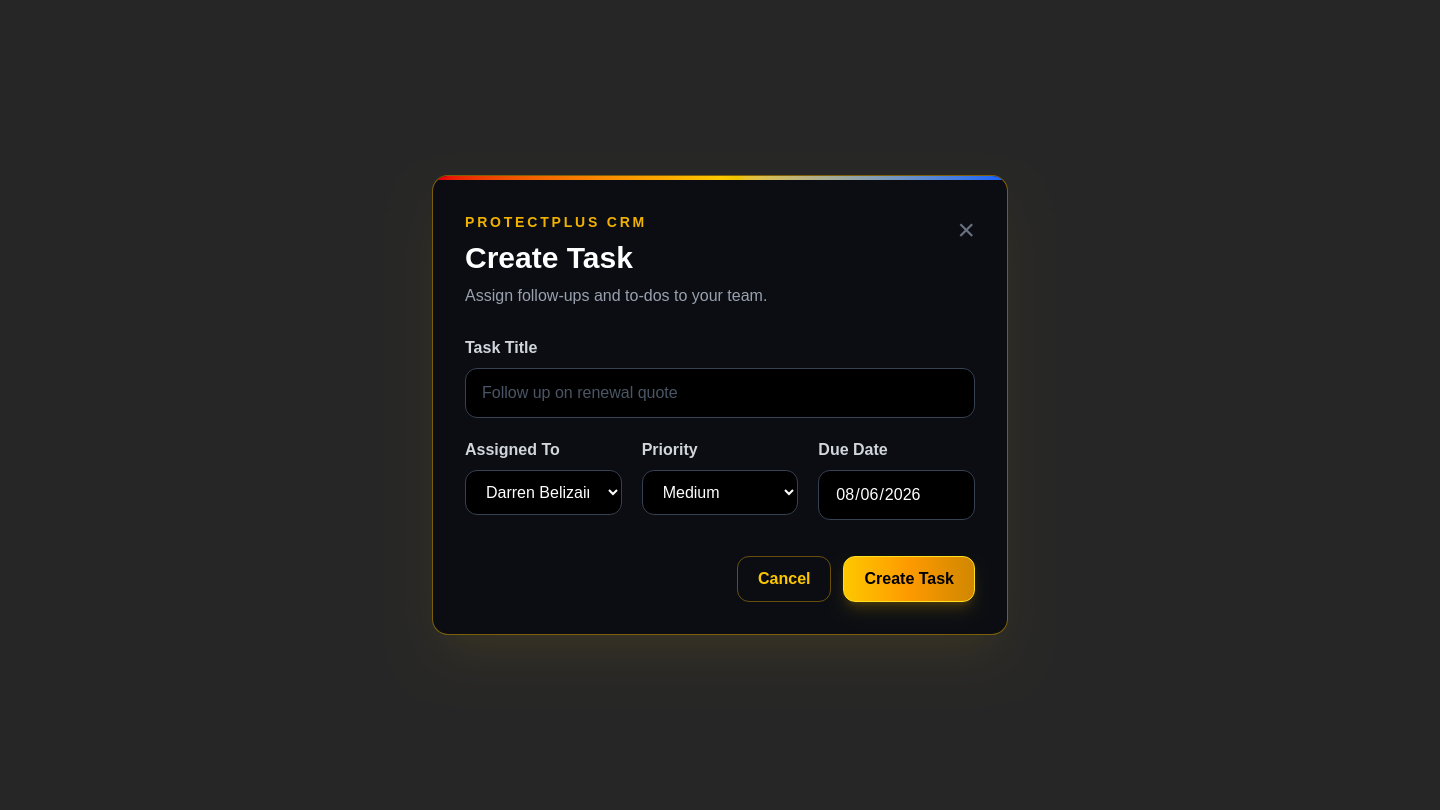
Scenario: TaskModal › shows an inline error and keeps the modal open when the save fails
Type "Call client" into the field with placeholder "Follow up on renewal quote". click: (720, 393)
box: [465,368,975,418]
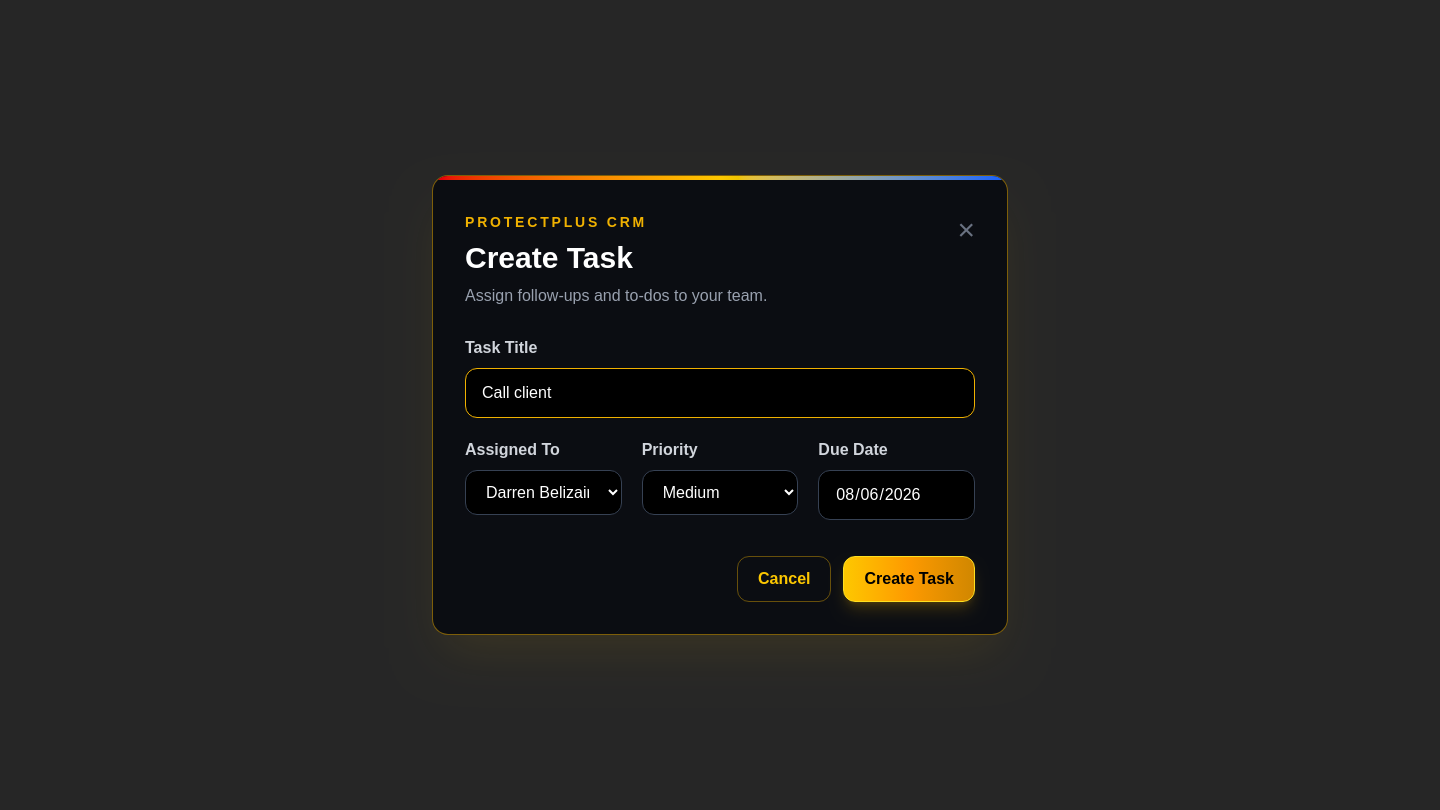
Click the button "Create Task". click: (909, 579)
box: [844,556,975,602]
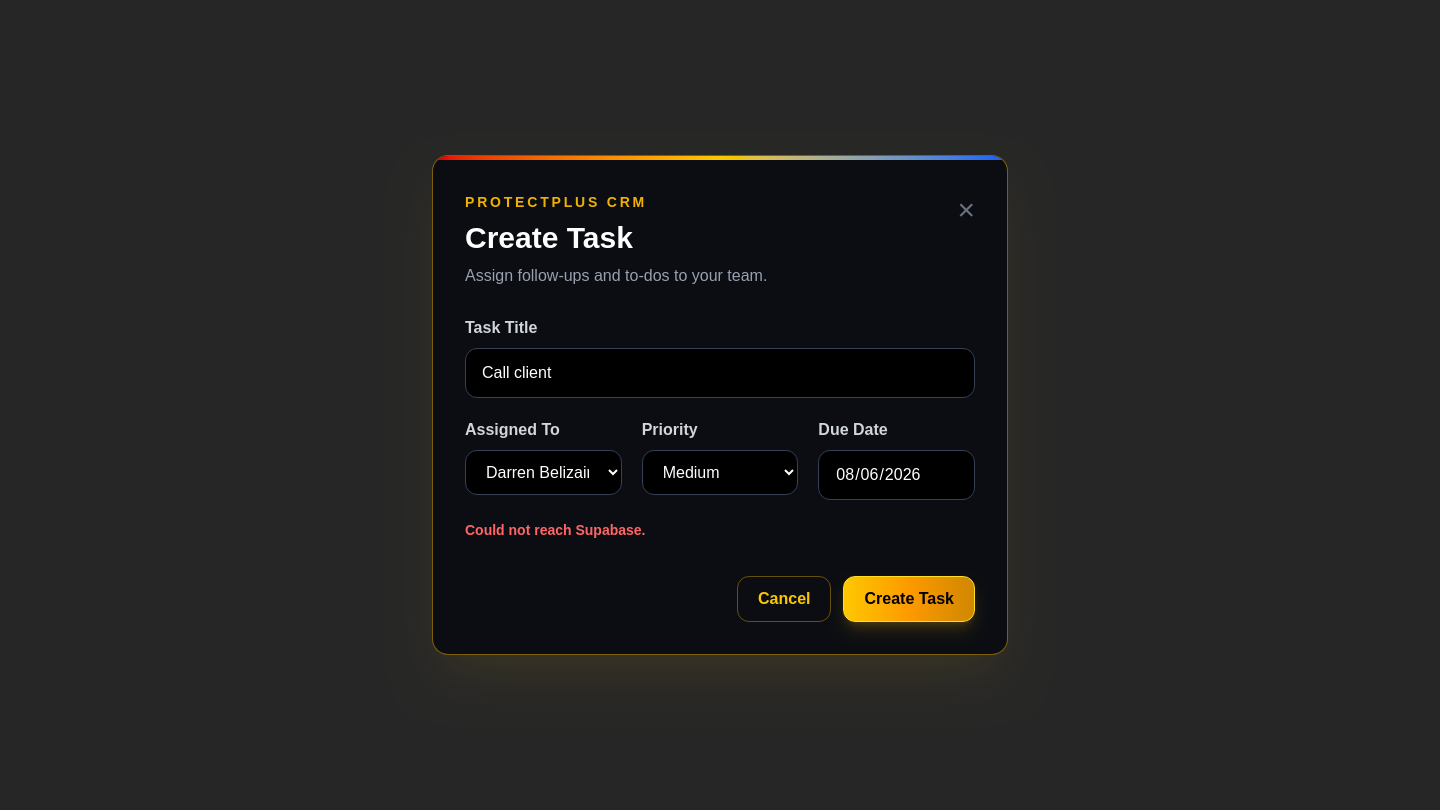
Check: the text "Could not reach Supabase." is shown, box [465,522,646,538]
